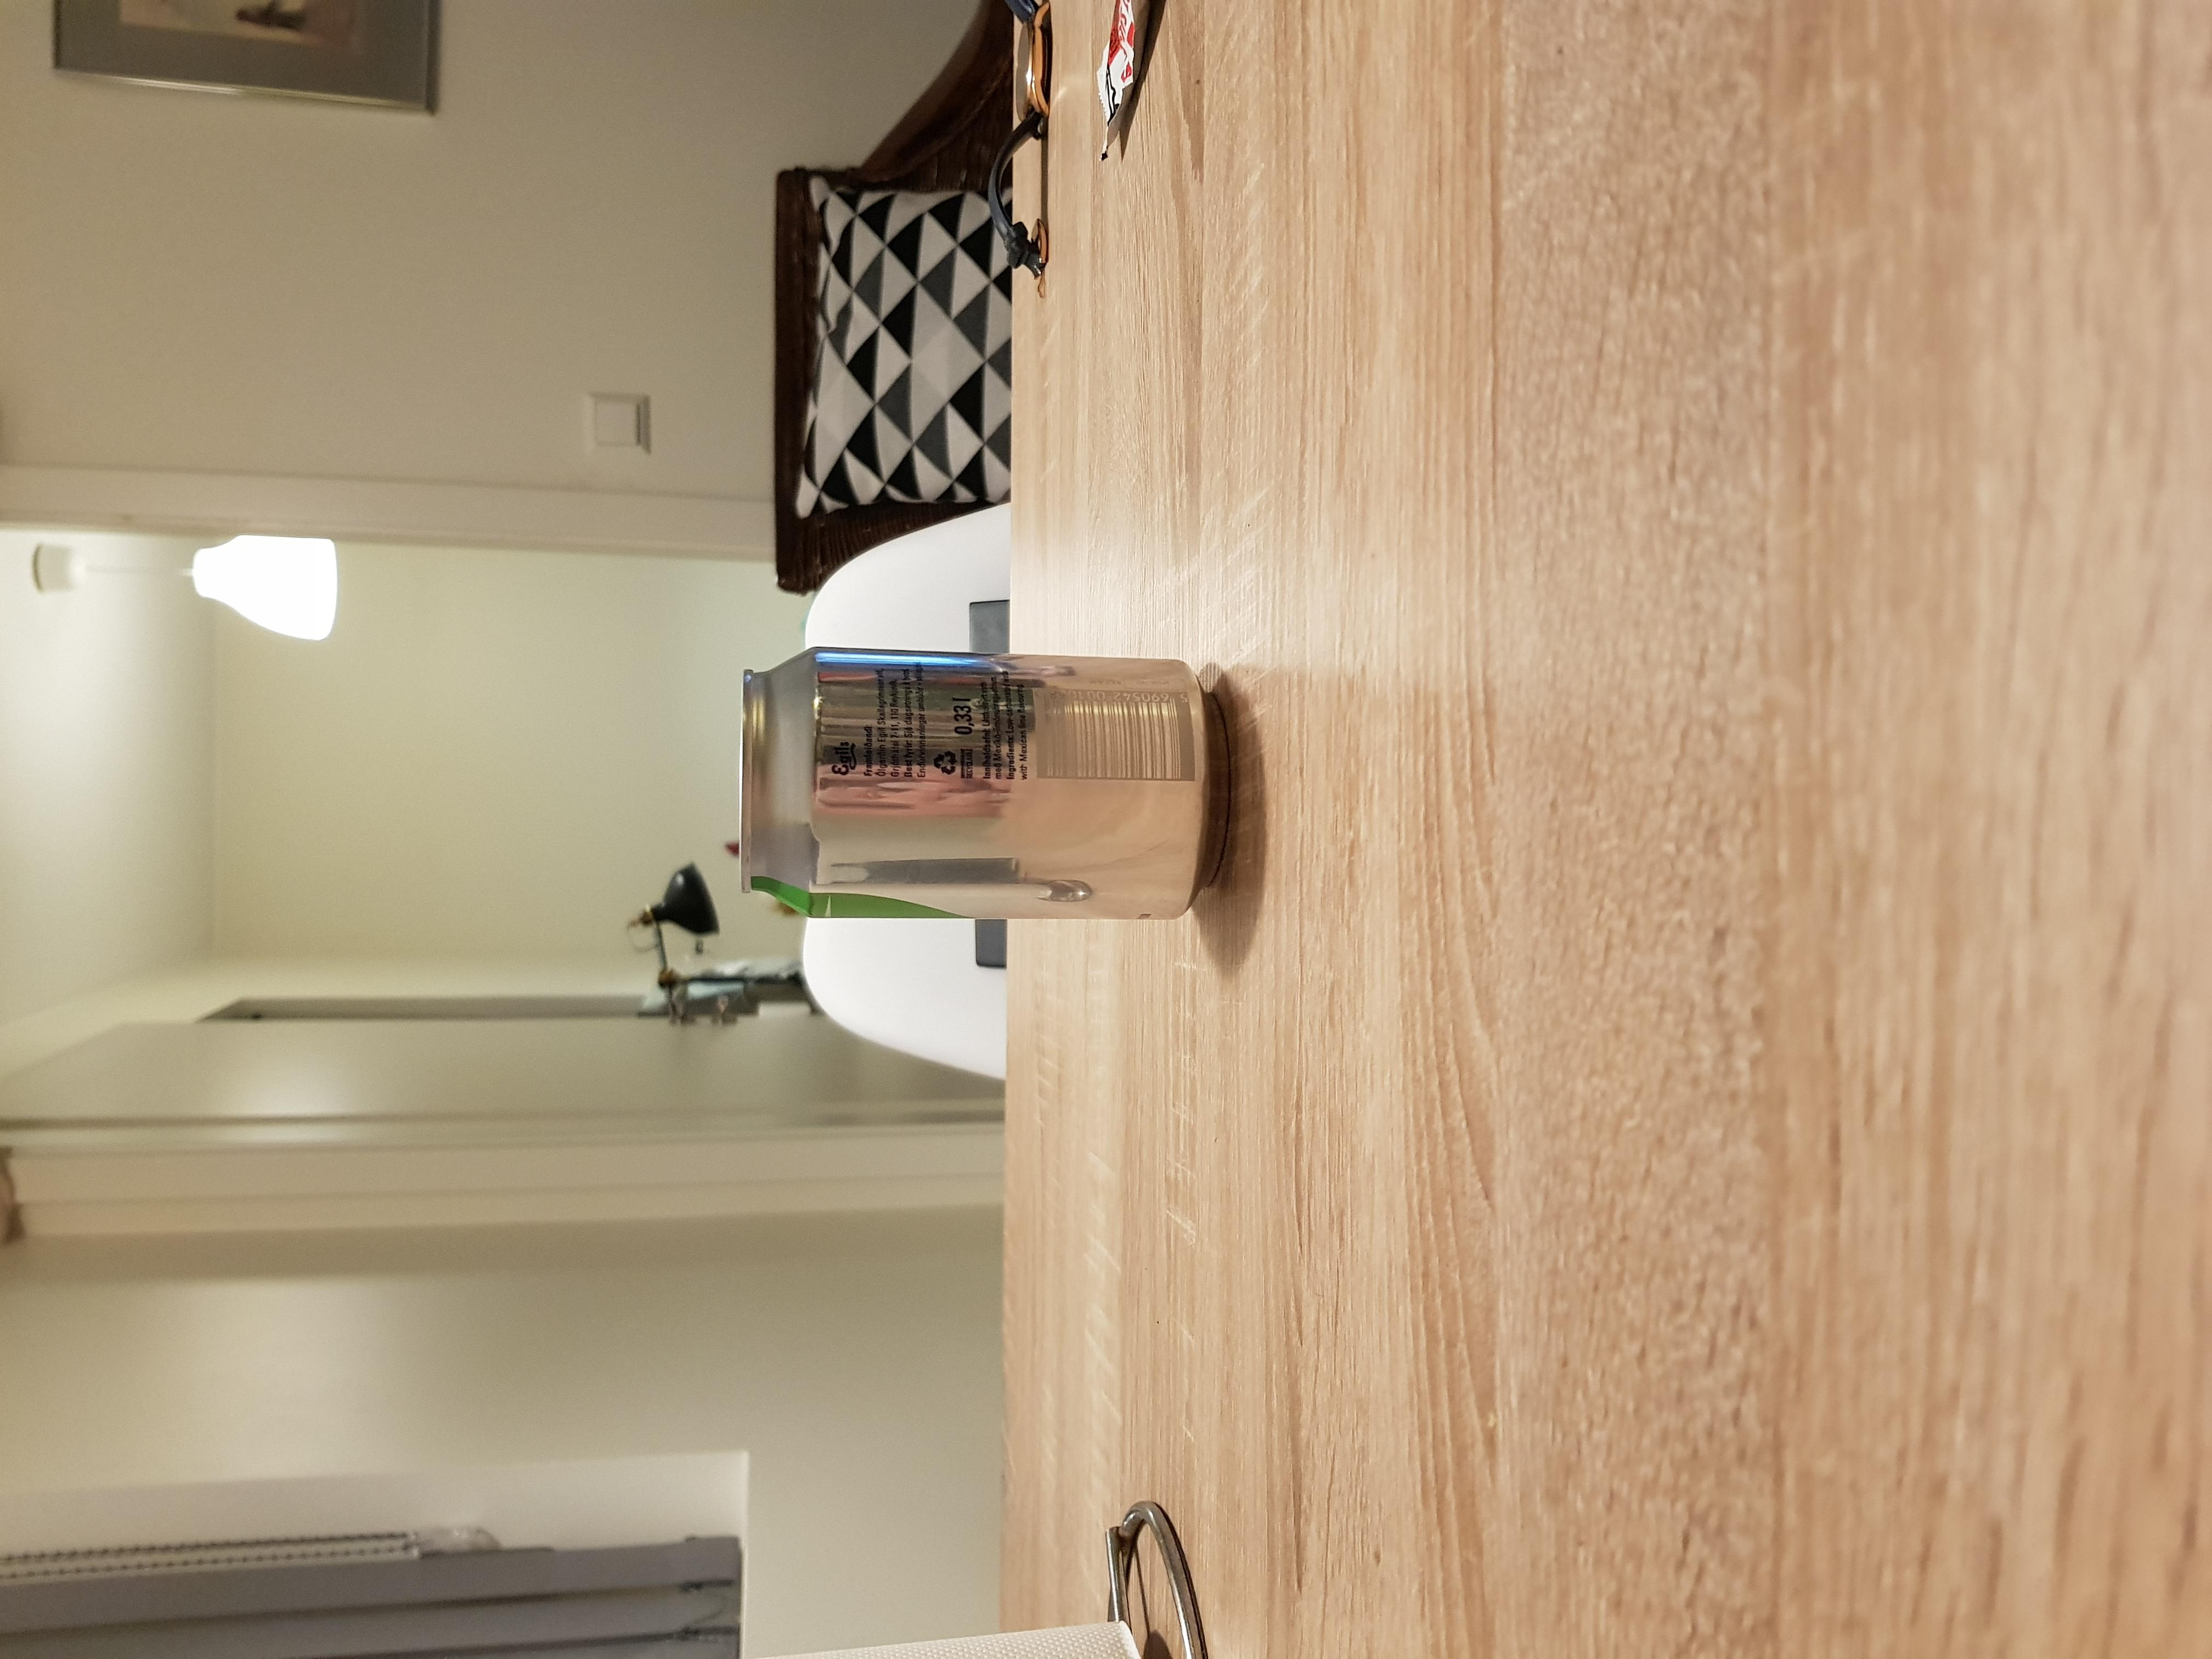Can: (737, 648, 1238, 913)
